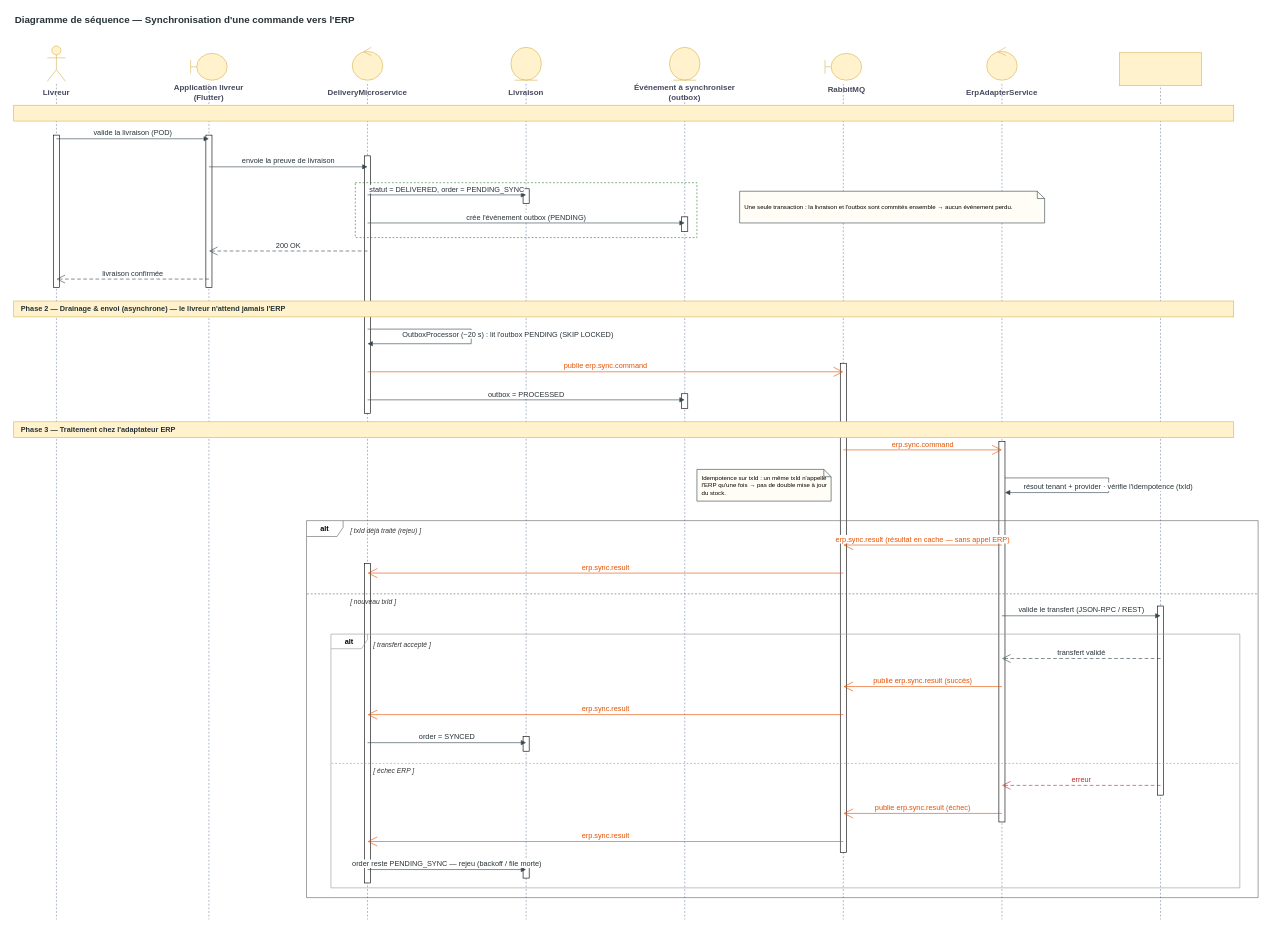
The diagram is 1269 pixels wide and 931 high, and some of its shapes have lost their labels. Here are the shapes that lost their labels. From the top down, the box of each, then its label:
(1119, 52, 1202, 86): ERP du client (externe)
(13, 105, 1234, 121): Phase 1 — Écriture transactionnelle (synchrone)
(355, 182, 697, 238): une seule transaction
